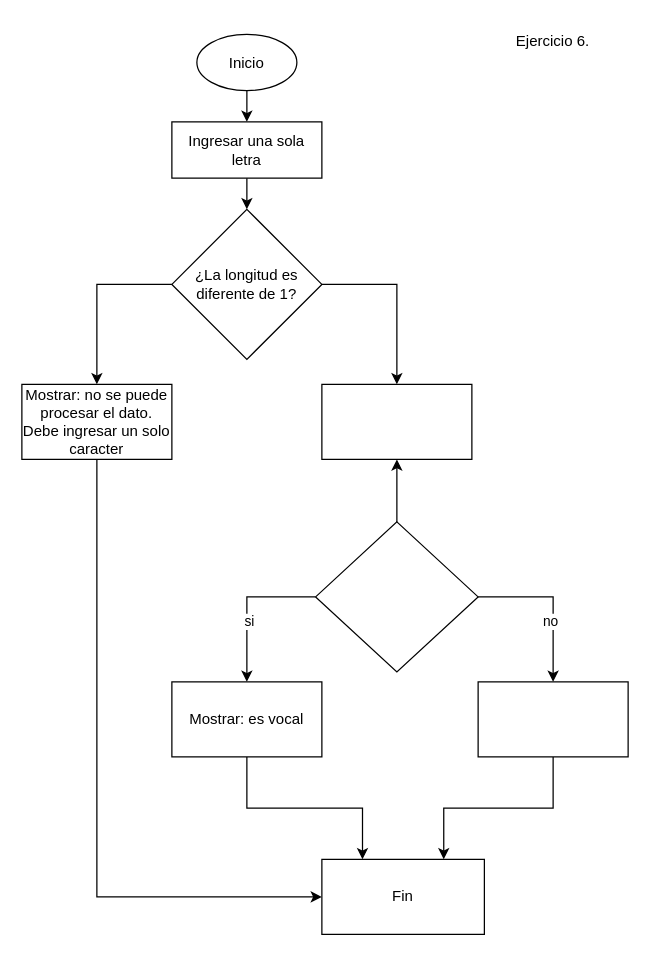
Image size: 650x956. Some labels were removed from this diagram. The box of each missing label's shape, as (x1, y1, x2, y2) in pixels:
Convertir la letra a minuscula: (321, 383, 472, 459)
Mostrar: no es vocal: (477, 681, 628, 757)
¿es a, e, i, o, u?: (314, 521, 478, 672)
